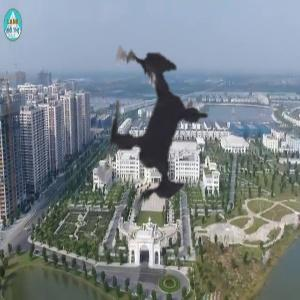drone: (28, 6, 285, 263)
